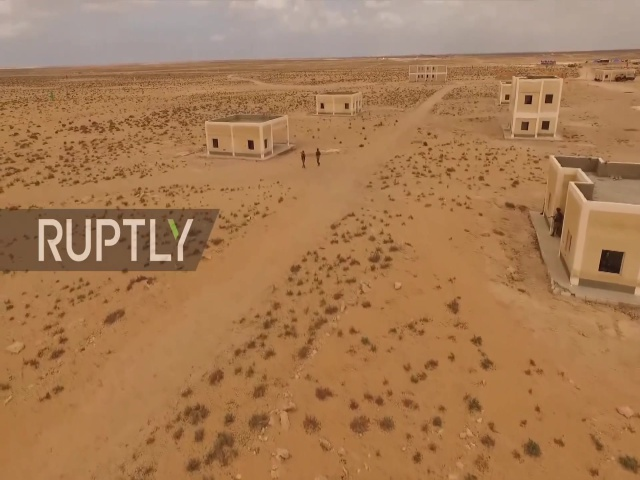person: (298, 149, 308, 170), (313, 146, 321, 168)
